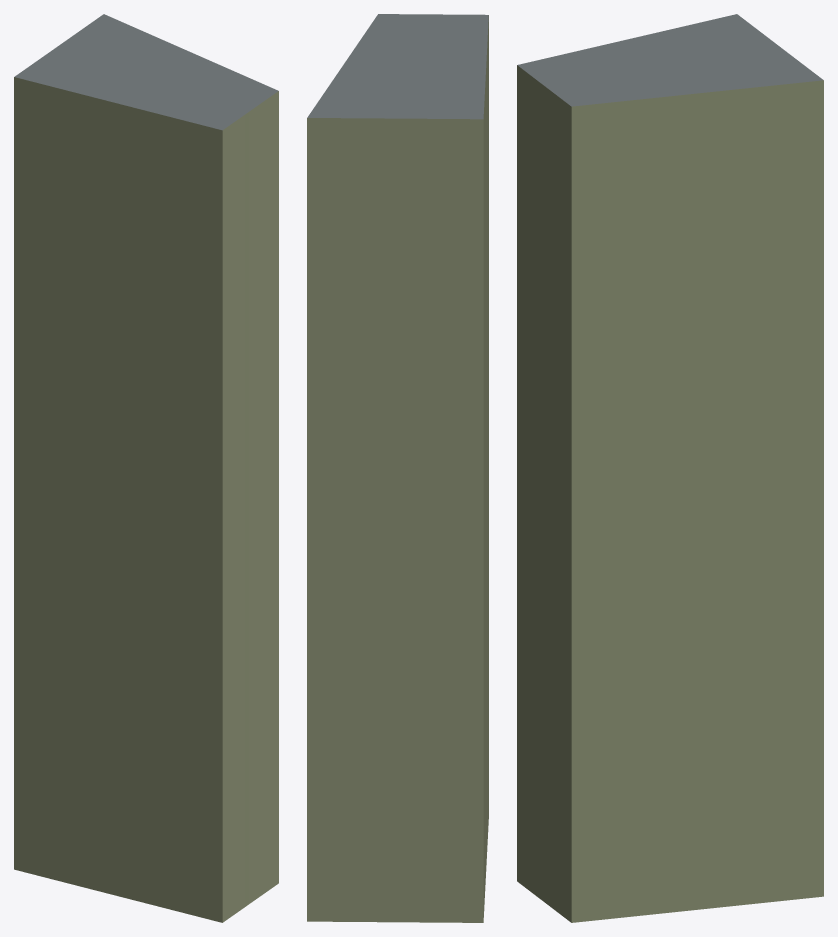
The model's file is nyc-1086069-0.glb.
3 renders of one model, left to right at view 1: azimuth 30°, elevation 25°; view 2: azimuth 150°, elevation 25°; view 3: azimuth 270°, elevation 25°, orthographic. The views are drawn at different scales.
Parts seen in each view (by area): view 1: nyc-1086069-0; view 2: nyc-1086069-0; view 3: nyc-1086069-0.
Boxes of the visible parts, box(x1,y1,x2,y2) form: nyc-1086069-0: box(14, 14, 278, 922); nyc-1086069-0: box(307, 14, 488, 922); nyc-1086069-0: box(517, 14, 823, 922).
Bounding box in the file's own units: 51 × 210 × 71.38.
